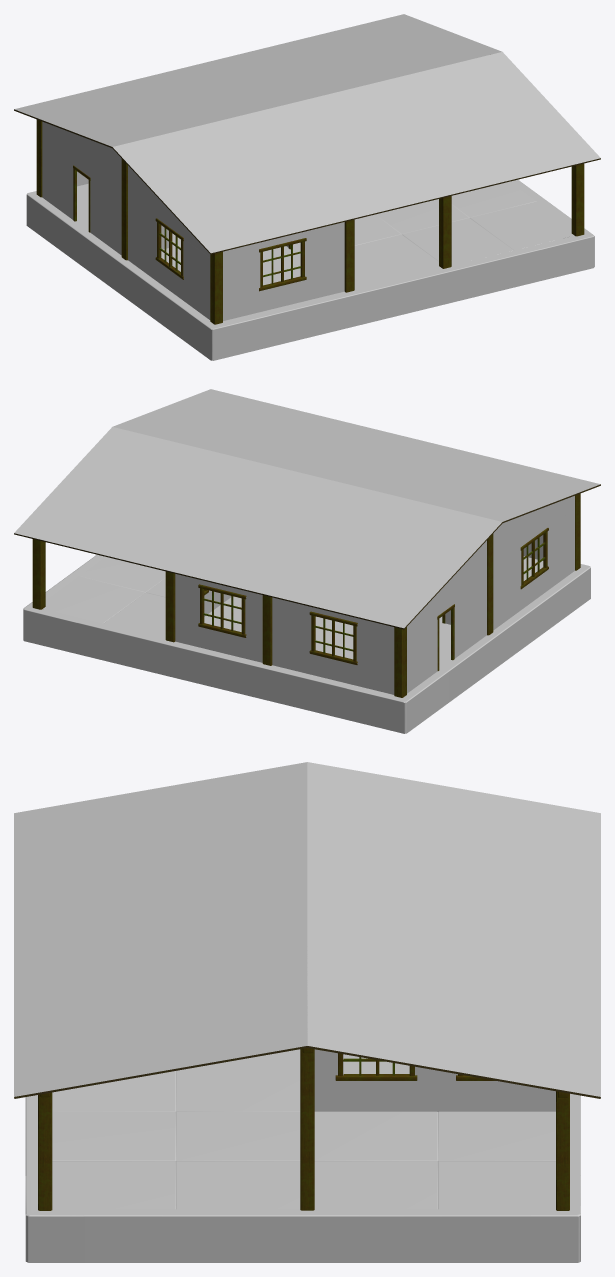
File: Serralheria_27mai.fbx
3 views of the same model, one above another, from view 1: azimuth 30°, elevation 25°; view 2: azimuth 150°, elevation 25°; view 3: azimuth 270°, elevation 25° (orthographic). The views are drawn at different scales.
Visible parts, largest first — view 1: pCube977; view 2: pCube977; view 3: pCube977.
Boxes of the visible parts, x1,y1,x2,y2 form: pCube977: (14, 14, 600, 360); pCube977: (14, 389, 600, 733); pCube977: (14, 762, 600, 1262).
Size of the model in its own units: 1700 by 610 by 1486.
